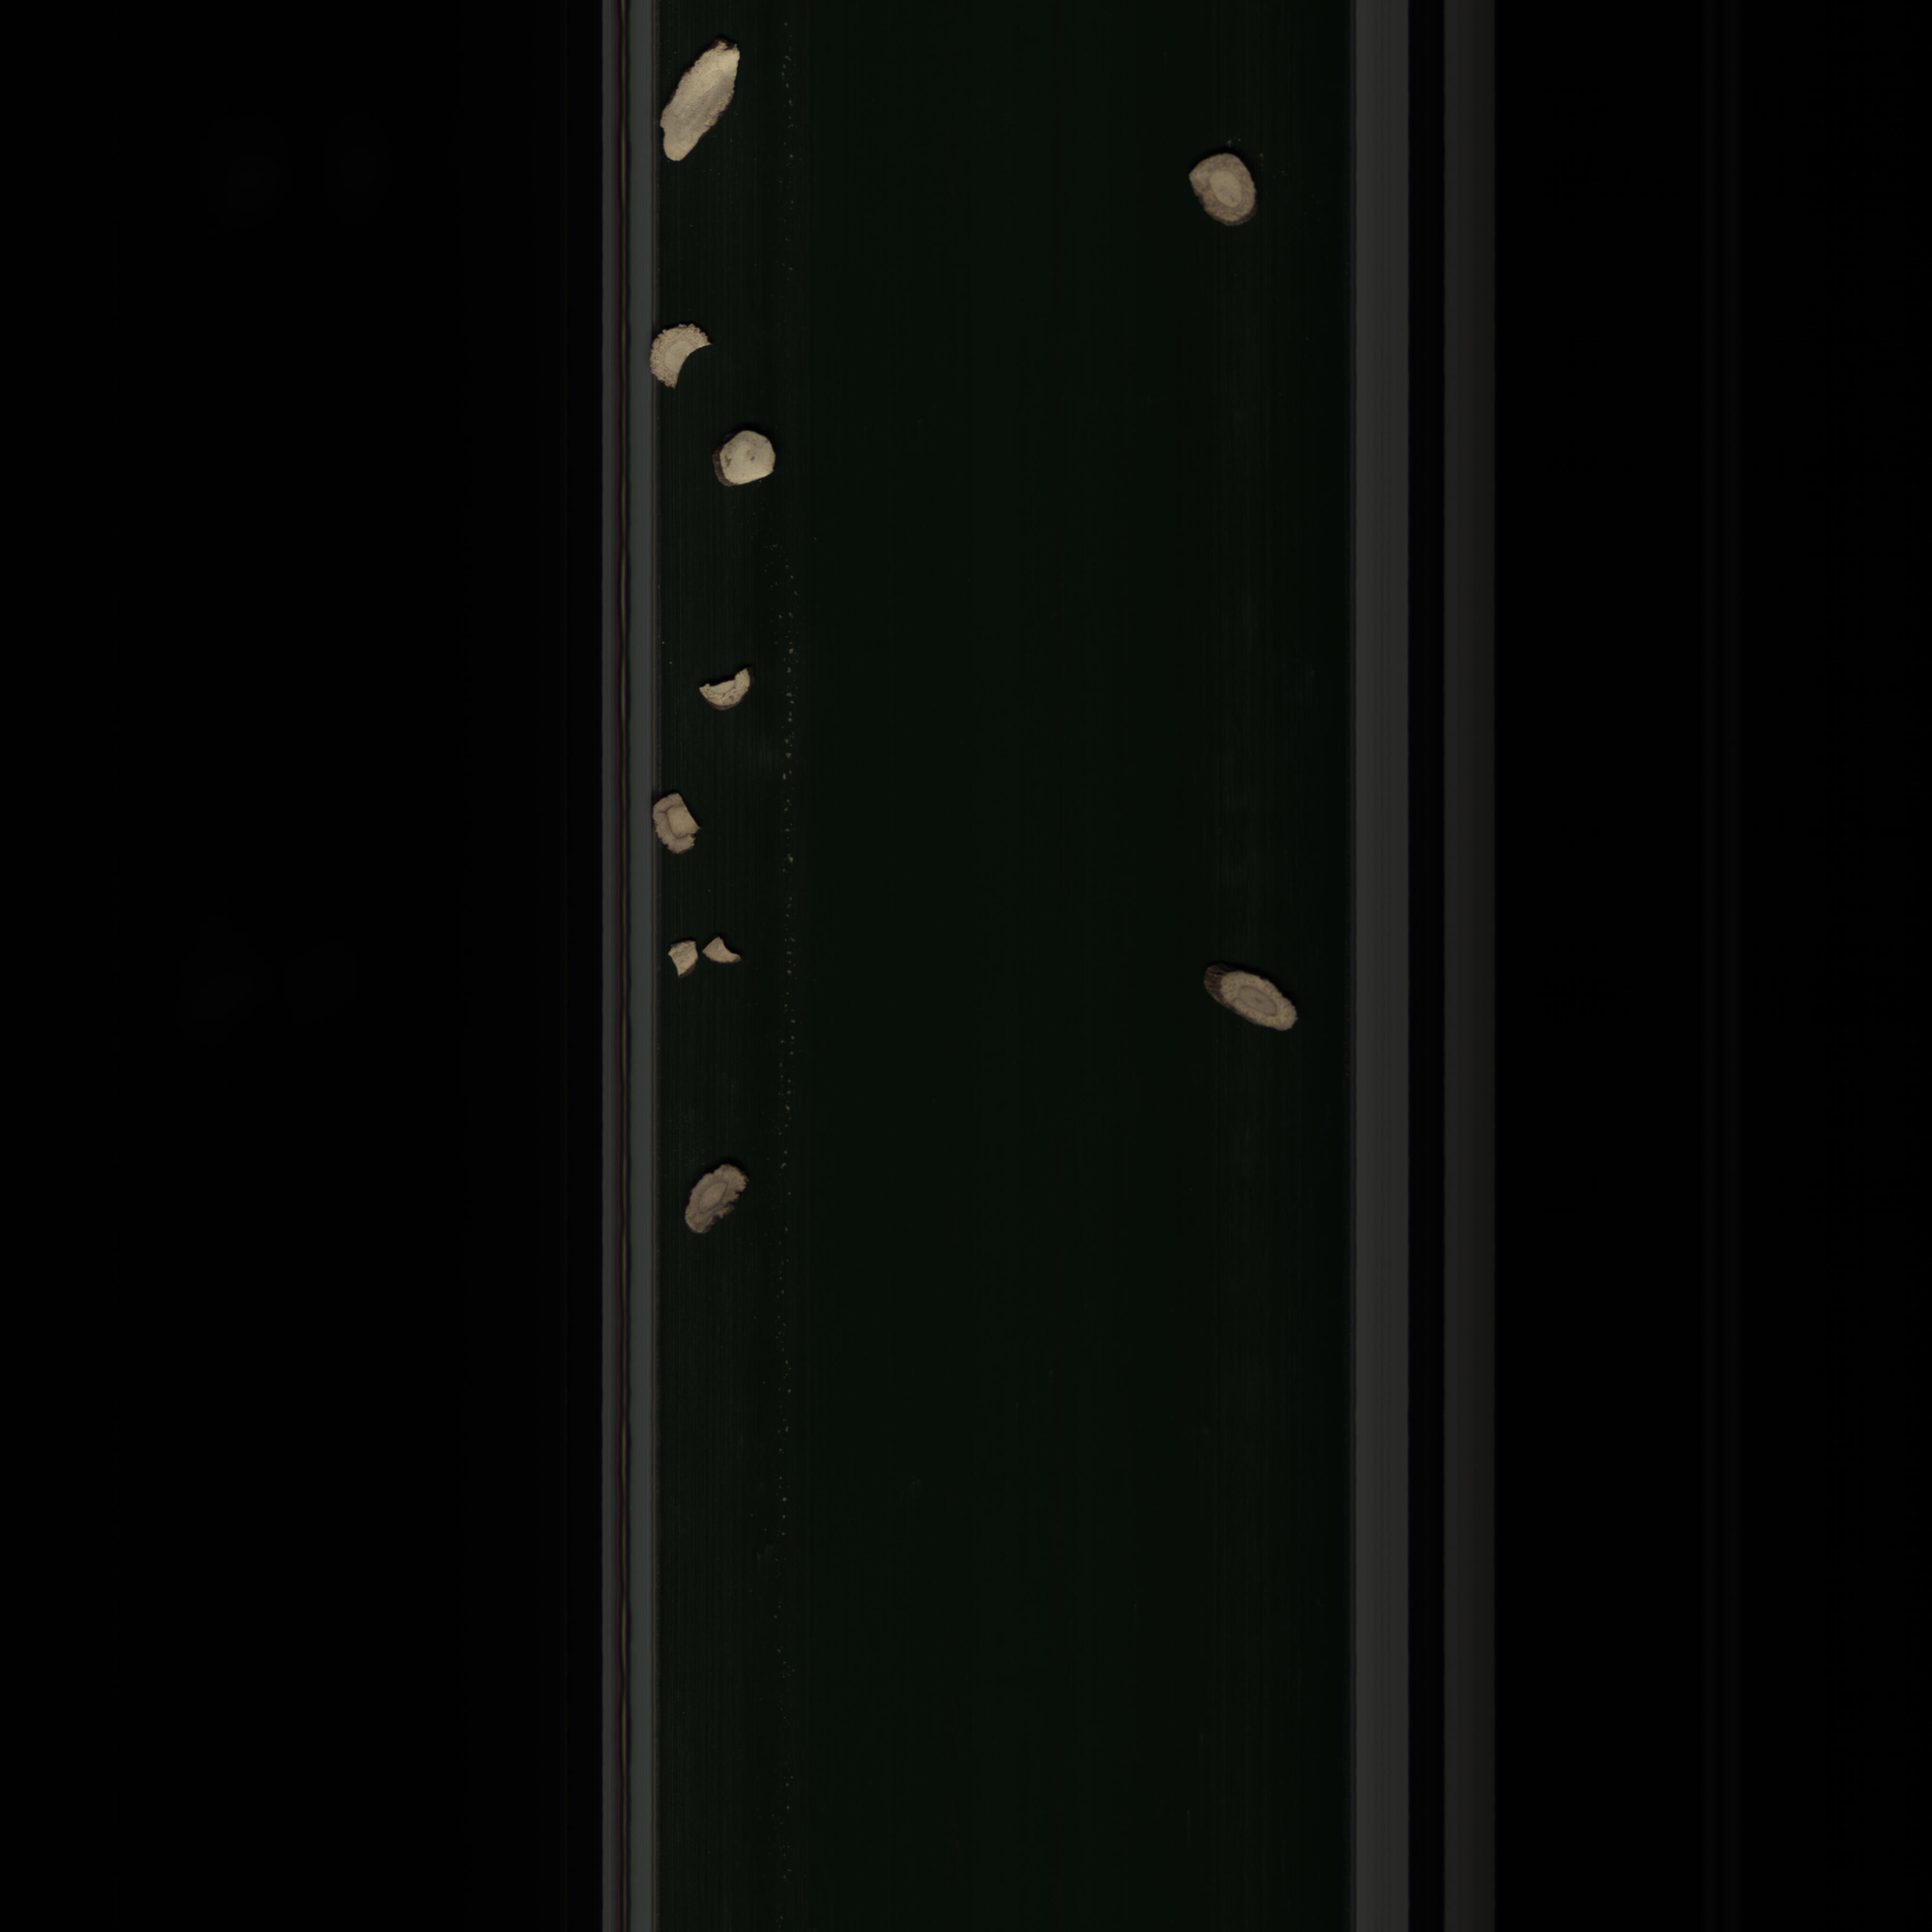debris: (655, 28, 748, 177), (646, 311, 724, 396), (655, 932, 752, 982), (648, 787, 711, 860), (692, 663, 755, 718)
distortion: (1194, 955, 1309, 1039)
moldy: (678, 1161, 755, 1251)
